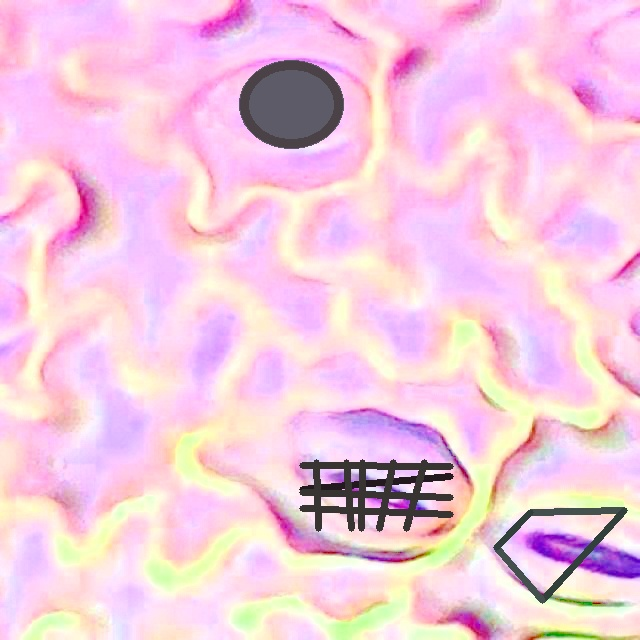open: (494, 509, 626, 602), (300, 459, 452, 531), (239, 61, 343, 148)
